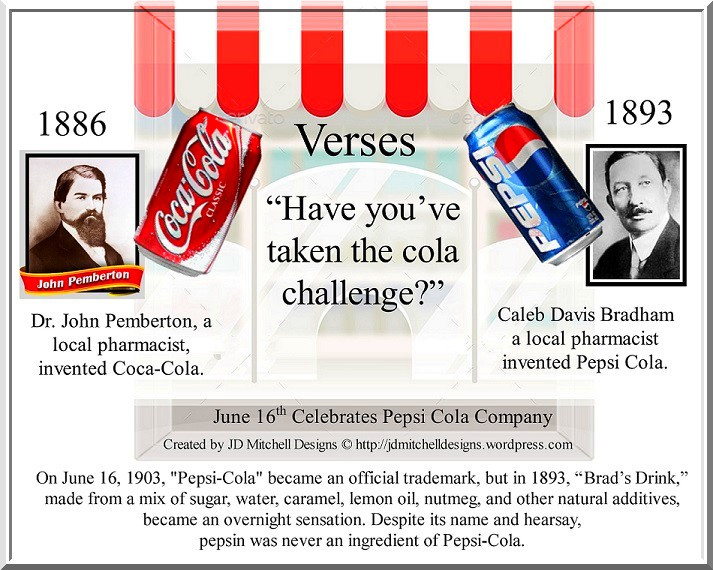pepsi: (493, 122, 552, 184)
